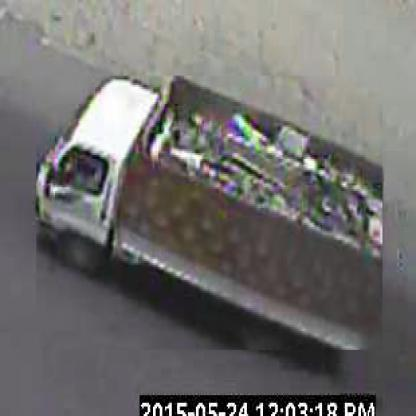truck: (37, 77, 385, 353)
